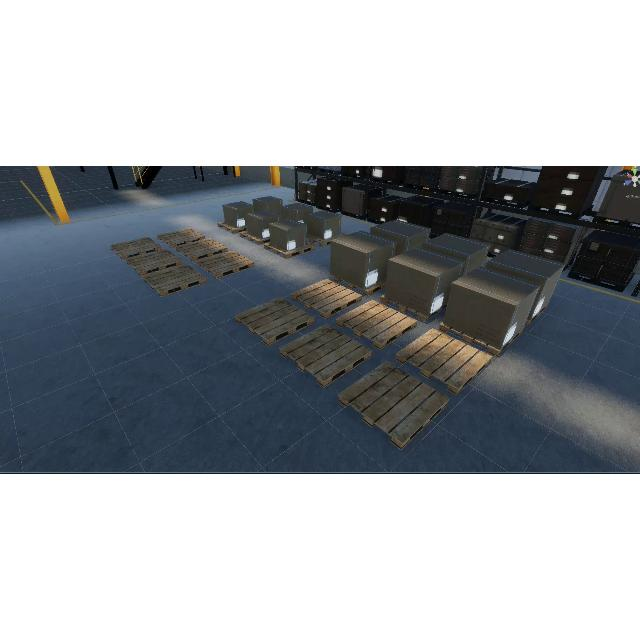wooden_pallet: (338, 361, 449, 450), (396, 328, 492, 396), (279, 324, 372, 389), (335, 299, 417, 349), (235, 298, 315, 346), (289, 278, 362, 320), (439, 324, 525, 357), (142, 264, 207, 297), (380, 297, 447, 323), (196, 250, 255, 279), (125, 249, 182, 276), (175, 238, 227, 262), (110, 237, 161, 260), (333, 276, 386, 297), (157, 228, 205, 248), (264, 241, 316, 259), (240, 231, 270, 246), (217, 221, 247, 234), (307, 234, 331, 247)
